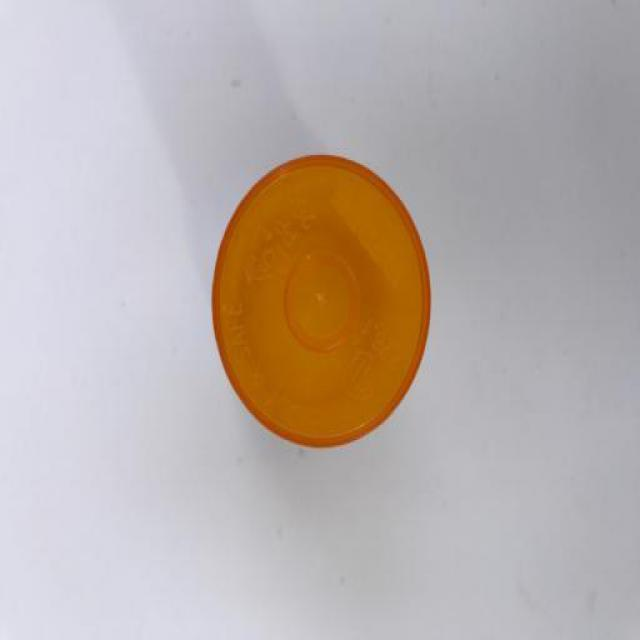others: (196, 147, 470, 490)
